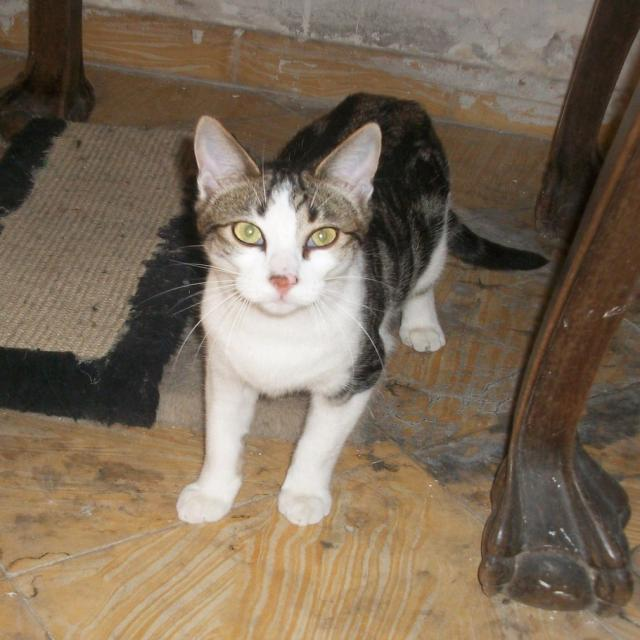Cat: (131, 91, 544, 531)
